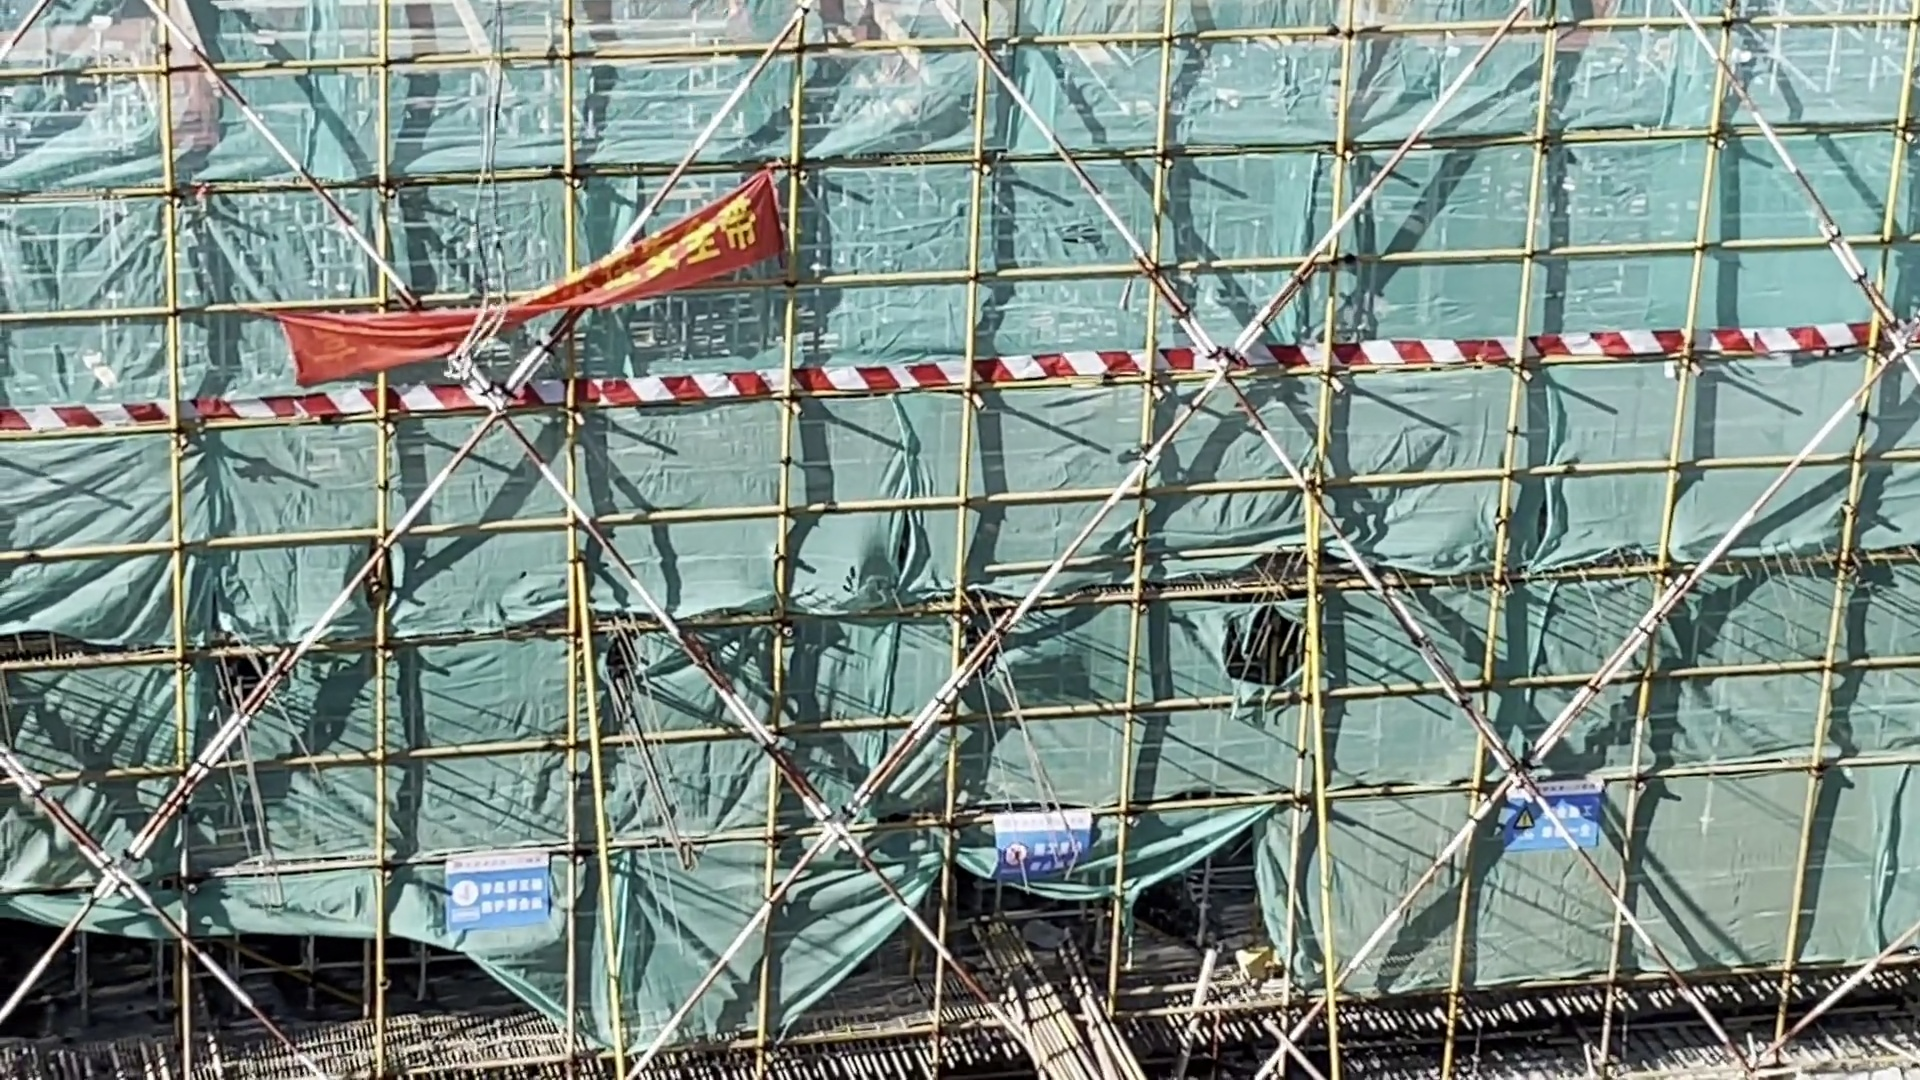slogan: (251, 149, 832, 397), (419, 819, 564, 943), (1491, 761, 1635, 884), (971, 791, 1116, 913)
